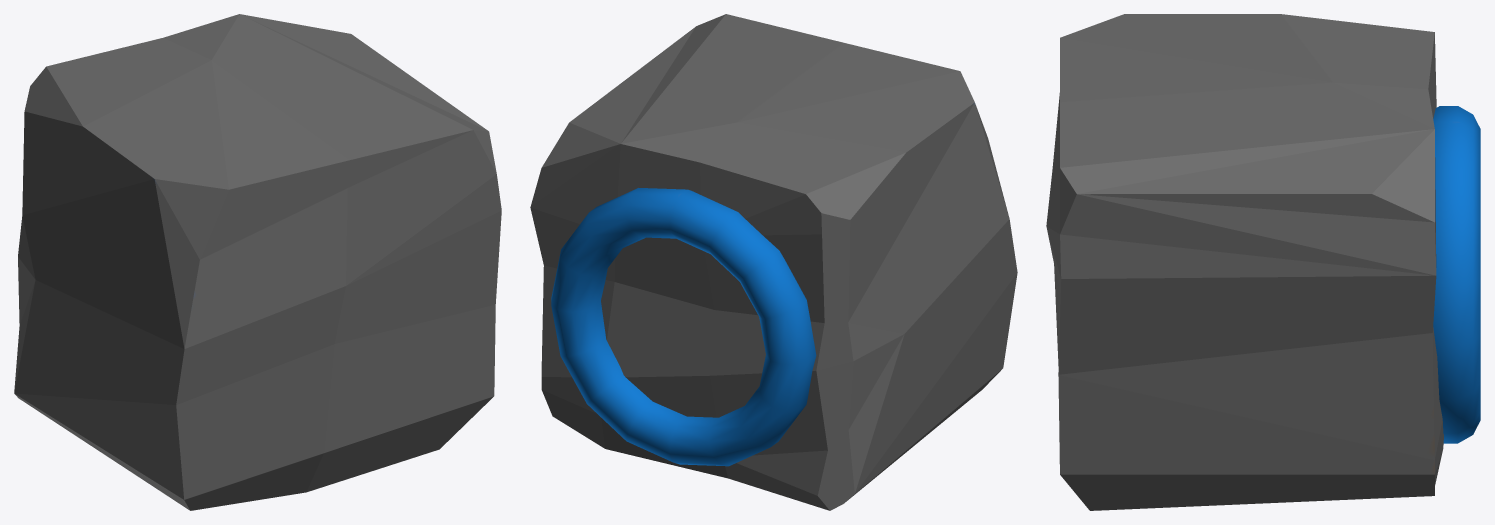
The model's file is Glove09_R.fbx.
3 renders of one model, left to right at view 1: azimuth 30°, elevation 25°; view 2: azimuth 150°, elevation 25°; view 3: azimuth 270°, elevation 25°, orthographic. The views are drawn at different scales.
Parts seen in each view (by area): view 1: Glove09_R; view 2: Glove09_R; view 3: Glove09_R.
Boxes of the visible parts, x1,y1,x2,y2 form: Glove09_R: [14, 14, 501, 510]; Glove09_R: [530, 14, 1017, 510]; Glove09_R: [1046, 14, 1480, 510].
Size of the model in its own units: 53.32 by 51.03 by 53.48.
Materials: 1 (1 with a texture image).
